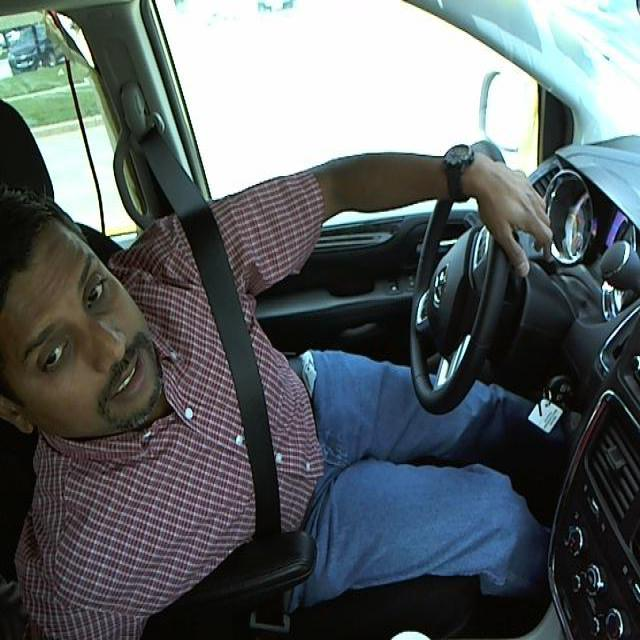seatbelt: (203, 264, 302, 555)
